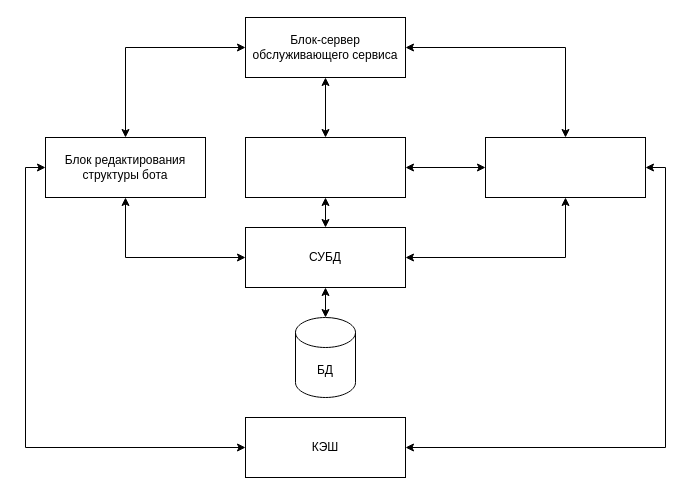
Image size: 692x495. Some labels were removed from this diagram. Here are the shapes that lost their labels. From the top down, the centre of each, then its label:
At point 325,167: "Блок управления ботом".
At point 565,167: "Блок-обработчик обновлений Telegram бота".
